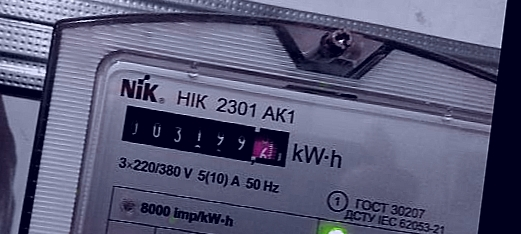0: (125, 113, 140, 136), (148, 116, 163, 138)
1: (192, 122, 204, 142)
3: (170, 122, 183, 142)
6: (258, 142, 269, 159)
9: (213, 125, 226, 147), (233, 130, 247, 150)
screen: (112, 98, 300, 174)
